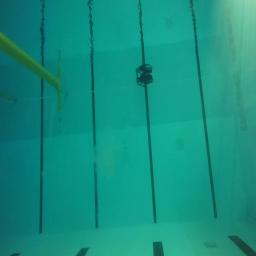Full: (136, 73, 153, 87)
